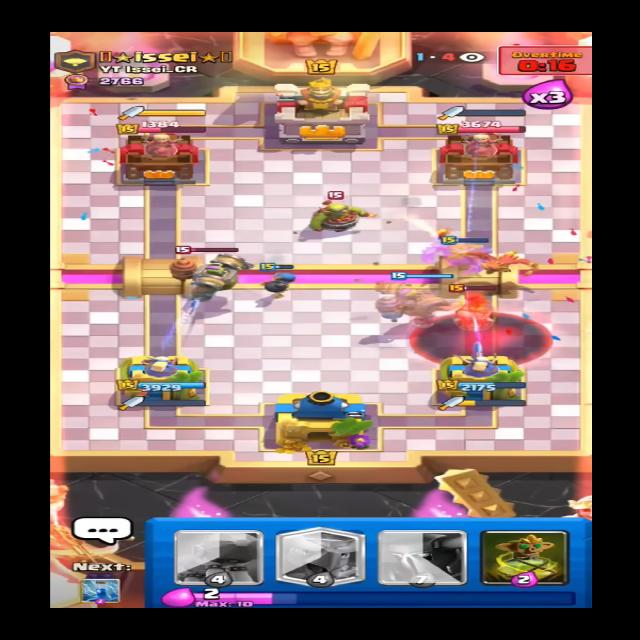goblin-demolisher: (300, 188, 372, 230)
goblin-machine: (158, 245, 256, 297)
ram-rider: (445, 281, 500, 333)
